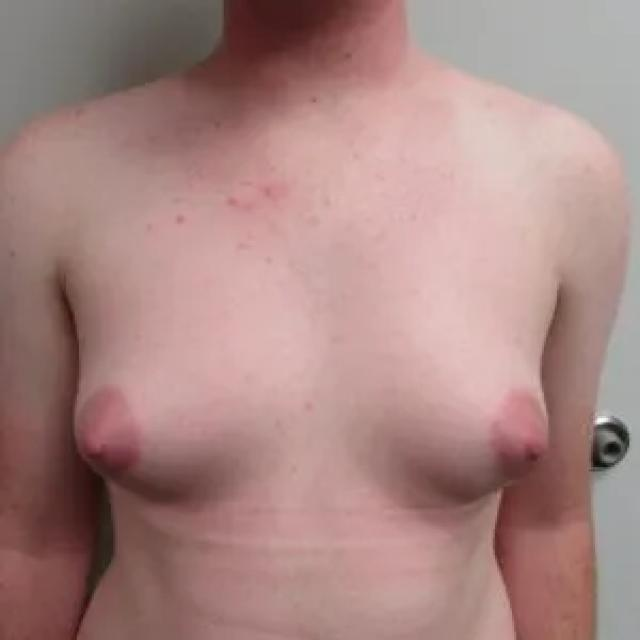Seno ileso: (62, 286, 306, 528), (321, 282, 561, 528)
